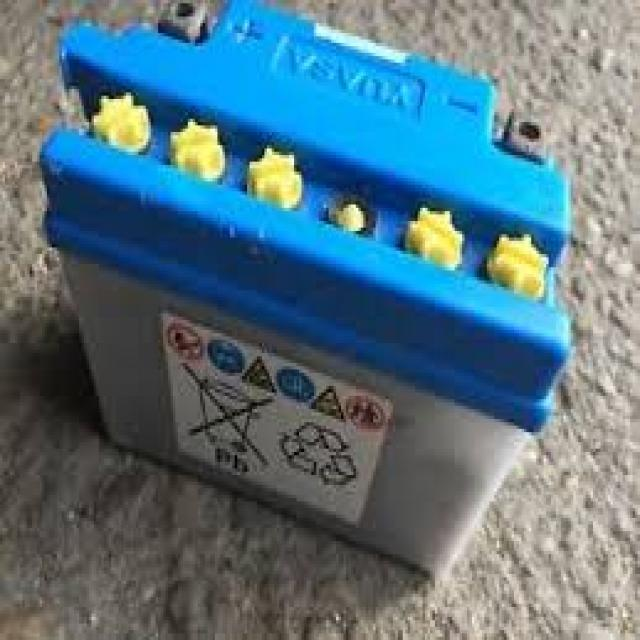non-organic waste: (39, 0, 571, 584)
